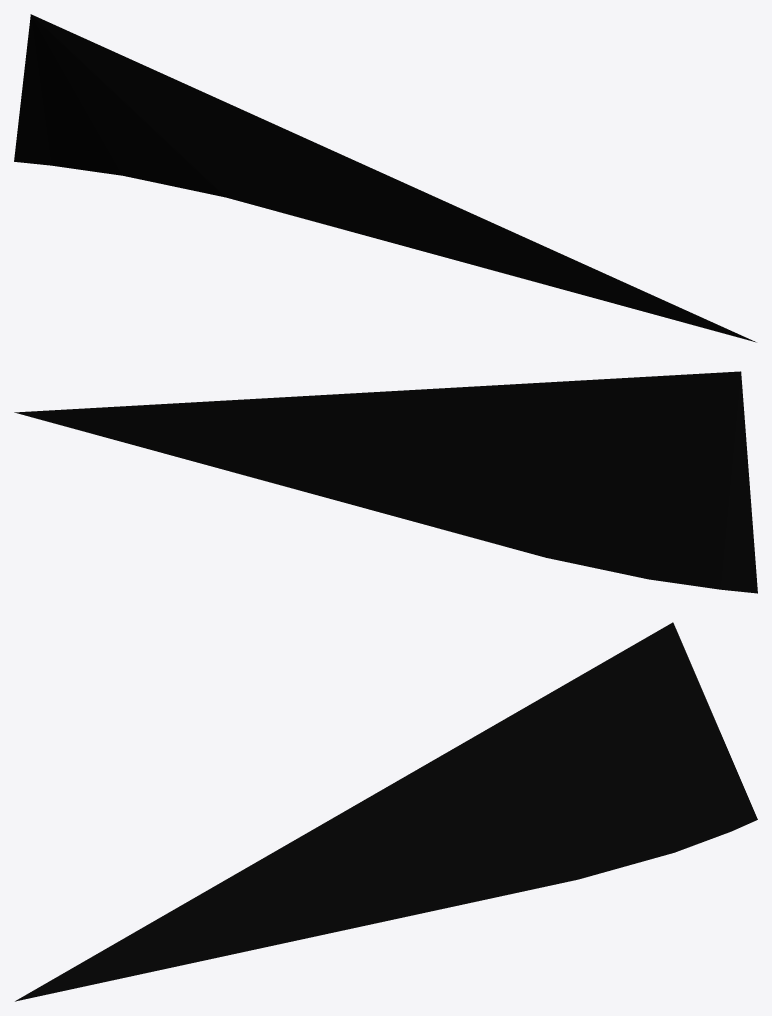
3 renders of one model, top to bottom at view 1: azimuth 30°, elevation 25°; view 2: azimuth 210°, elevation 25°; view 3: azimuth 270°, elevation 25°, orthographic.
Bounding box in the file's own units: 0.596 × 0.2646 × 0.9637.
Materials: 1 (1 with a texture image).
